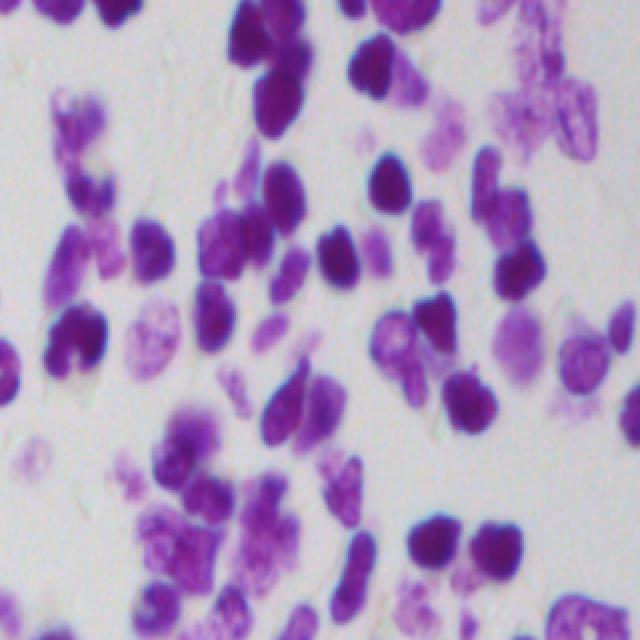cell: (470, 153, 530, 248), (198, 205, 271, 276), (123, 300, 180, 377), (47, 307, 109, 376), (330, 531, 376, 623), (43, 218, 91, 305), (267, 362, 312, 448), (548, 596, 631, 640), (350, 29, 397, 105), (444, 372, 497, 435), (249, 75, 299, 138), (266, 159, 305, 234), (472, 522, 523, 579), (407, 514, 457, 570), (50, 93, 101, 146), (197, 284, 237, 351), (318, 226, 360, 289), (411, 295, 458, 350), (496, 241, 543, 295), (231, 7, 271, 70), (569, 333, 609, 393), (130, 218, 172, 275), (157, 442, 221, 478), (183, 476, 237, 517), (93, 218, 127, 283), (68, 162, 113, 209), (370, 157, 407, 212), (141, 582, 175, 635), (263, 1, 305, 43), (172, 409, 222, 439), (93, 1, 139, 33), (377, 1, 437, 24), (14, 438, 51, 475), (3, 337, 23, 403), (610, 306, 635, 356), (279, 606, 316, 639), (32, 0, 86, 21), (623, 386, 639, 443), (343, 0, 363, 13)
